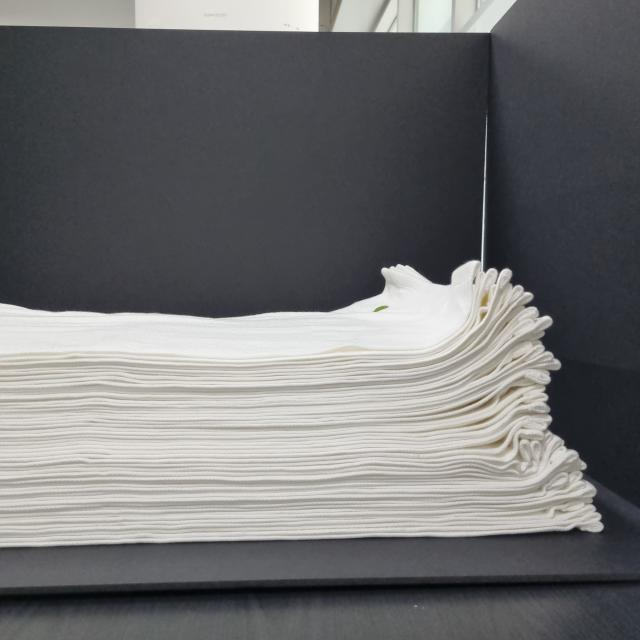50_towel_counts: (0, 237, 618, 568)
